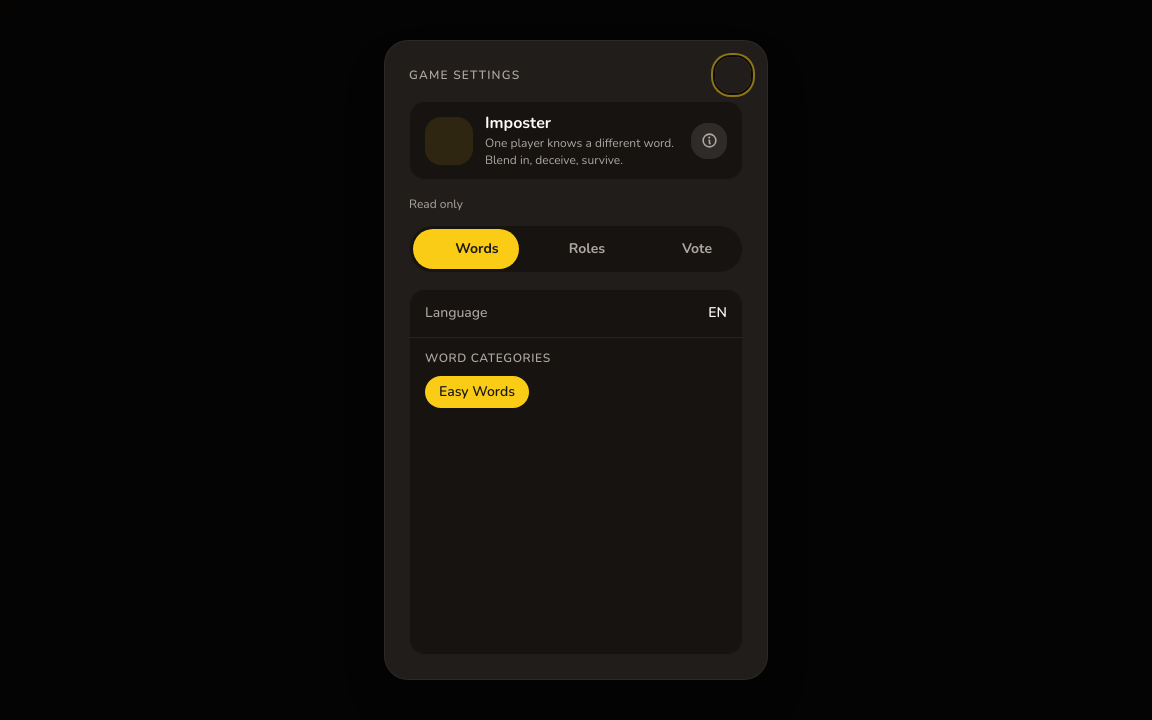
Test case: GameSettingsModal › renders read-only tabs with summary values when disabled
The width and height of the screenshot is (1152, 720).
Check: the text "Read only" is shown, box [409,196,463,212]
Check: the tab "Words" is shown, box [413,228,519,268]
# Switching to the Roles tab reveals the read-only imposter count.
Click the tab "Roles" at coordinates (576, 248), box [523,228,629,268]
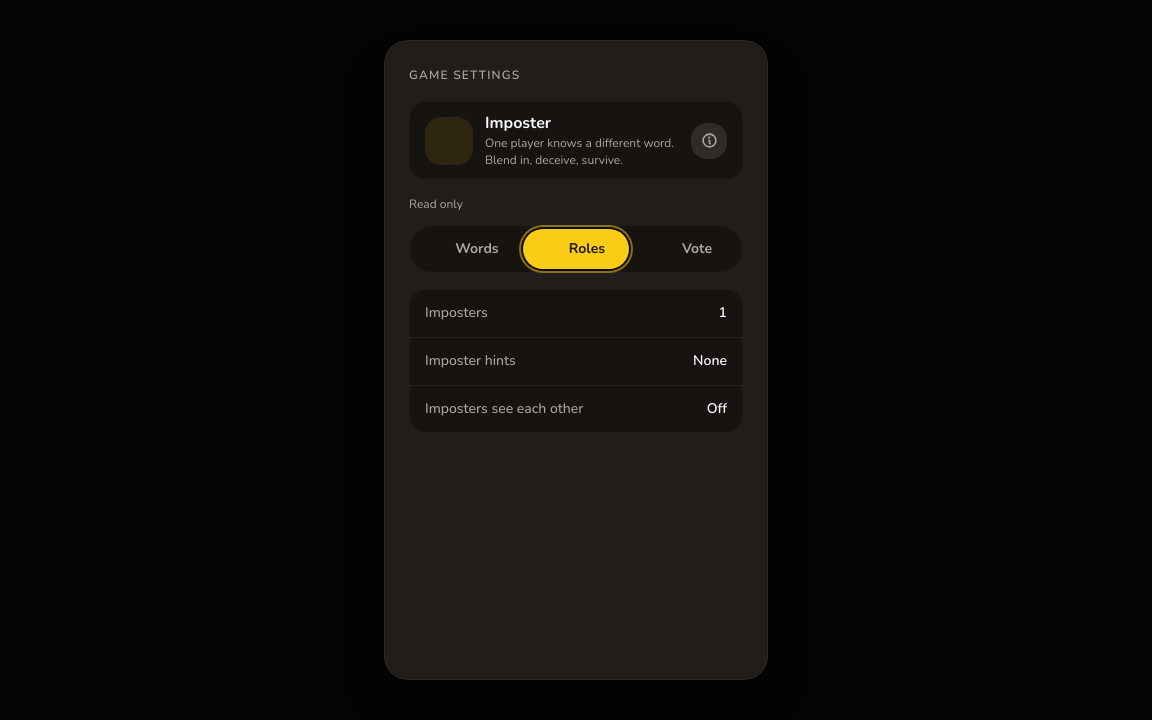
Check: the text "Imposters" is shown, box [425,303,488,322]
